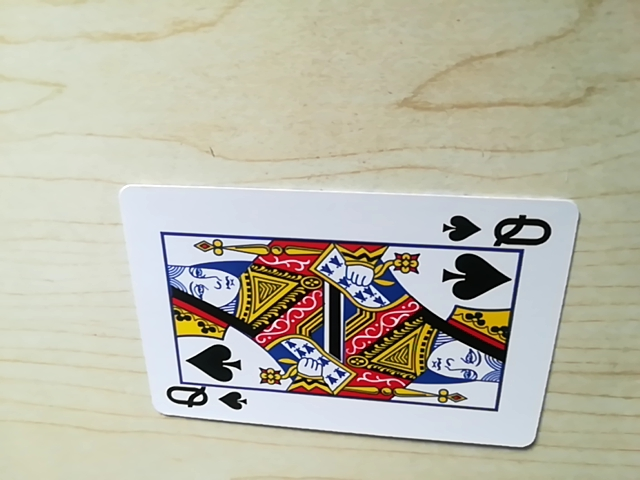ht q: (442, 206, 552, 250), (161, 381, 248, 418)
